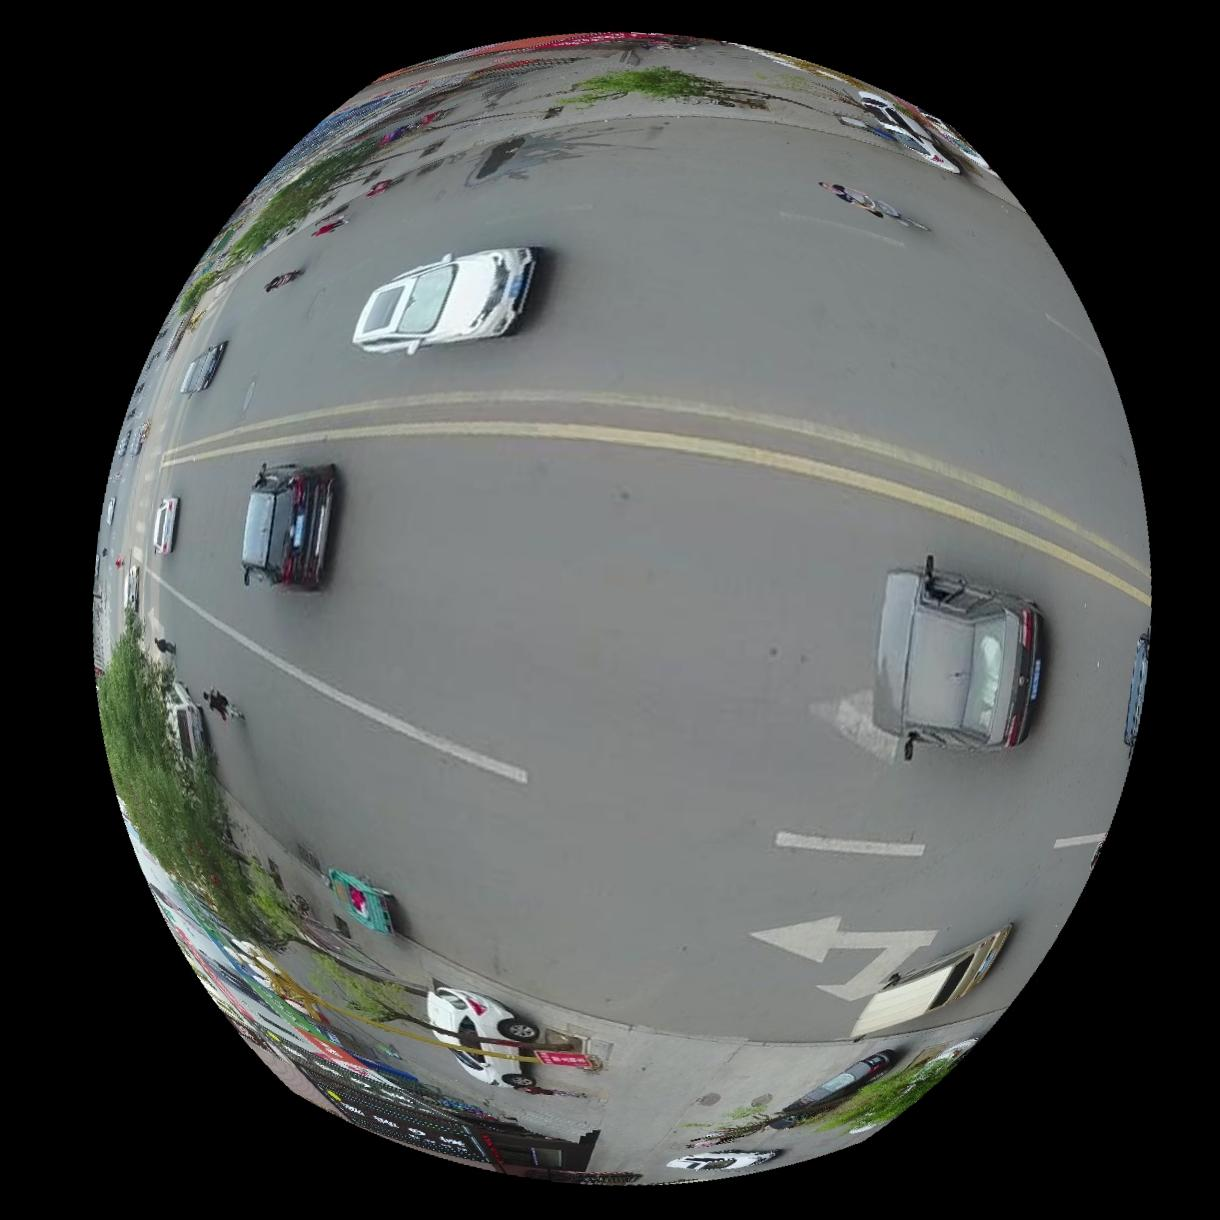cars: (874, 556, 1043, 760), (353, 244, 541, 353), (852, 925, 1013, 1038), (239, 464, 332, 593), (427, 988, 538, 1089), (782, 1050, 897, 1122), (327, 870, 393, 933), (164, 682, 203, 760), (667, 1151, 781, 1173), (179, 339, 225, 393), (151, 495, 178, 554)
trees: (96, 625, 308, 952)
